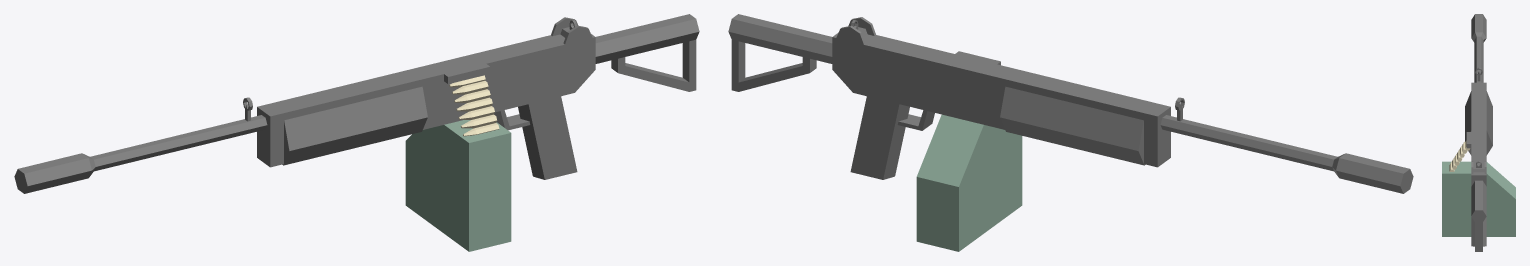
The model's file is SAW.fbx.
The picture shows the model from 3 angles, left to right: view 1: azimuth 30°, elevation 25°; view 2: azimuth 150°, elevation 25°; view 3: azimuth 270°, elevation 25°; orthographic projection. The views are drawn at different scales.
Parts seen in each view (by area): view 1: Gun, Mag, Hatch; view 2: Gun, Mag, Hatch; view 3: Mag, Gun, Hatch.
Boxes of the visible parts, <box> form: Gun: <box>14,14,699,193</box>; Mag: <box>405,75,511,251</box>; Hatch: <box>410,36,560,86</box>; Gun: <box>728,14,1413,193</box>; Mag: <box>916,114,1022,251</box>; Hatch: <box>867,36,1017,86</box>; Mag: <box>1442,140,1515,236</box>; Gun: <box>1465,14,1492,251</box>; Hatch: <box>1466,126,1486,165</box>.
Bounding box in the file's own units: 0.9703 × 0.2442 × 0.1584.
